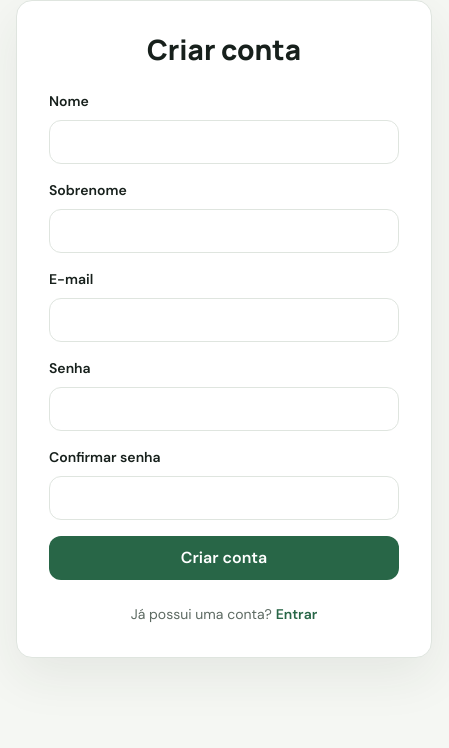
Test: RegisterPage — envio › exibe erro do servidor e permanece na página
The image size is (449, 748).
In the field labelled "Nome": (224, 142) [49,120,399,164], type "John"
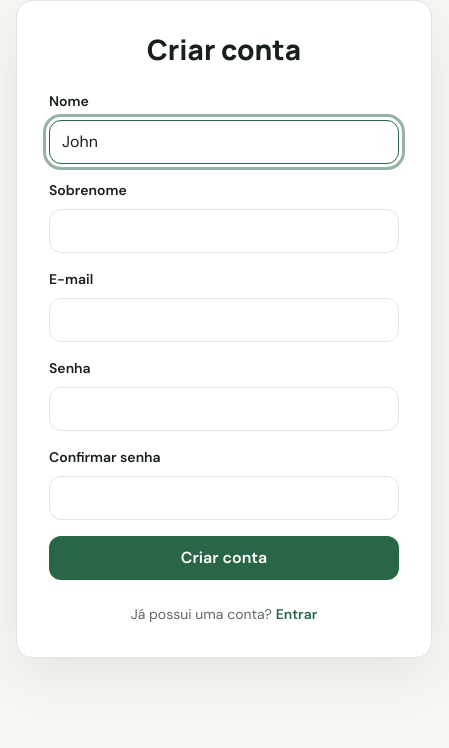
In the field labelled "Sobrenome": (224, 231) [49,209,399,253], type "Doe"
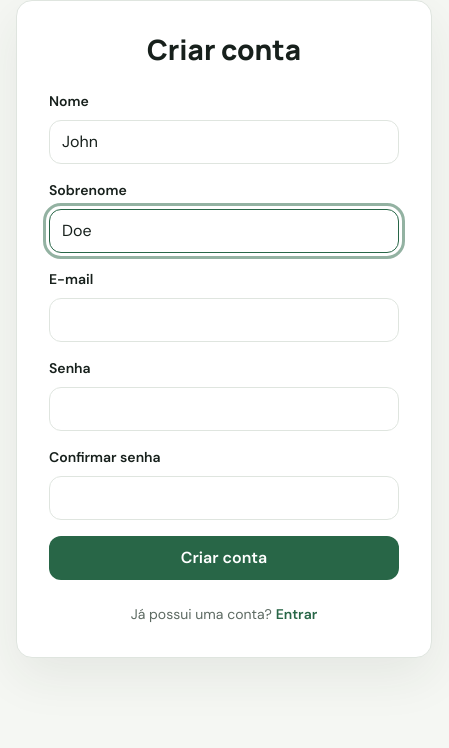
In the field labelled "E-mail": (224, 320) [49,298,399,342], type "john@example.com"
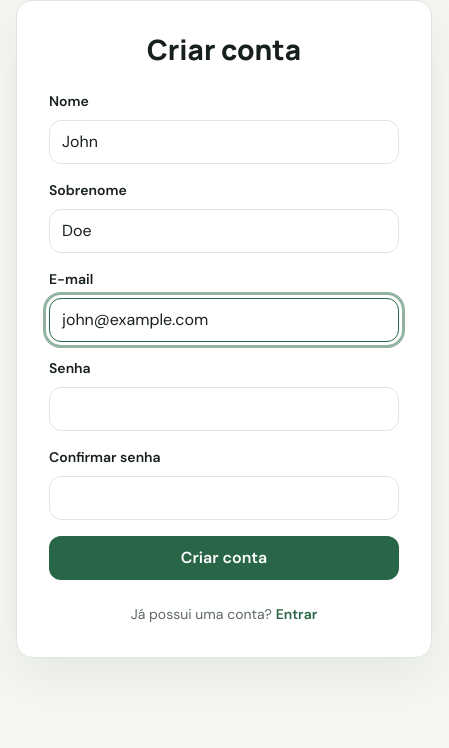
In the password field labelled "Senha": (224, 409) [49,387,399,431], type "12345678"
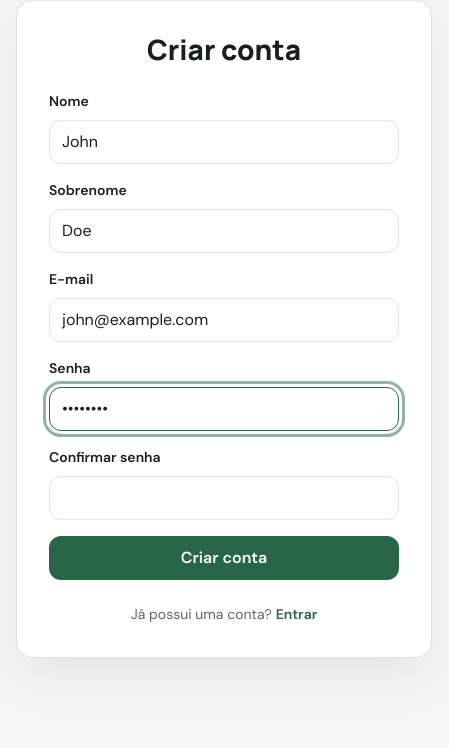
In the password field labelled "Confirmar senha": (224, 498) [49,476,399,520], type "12345678"
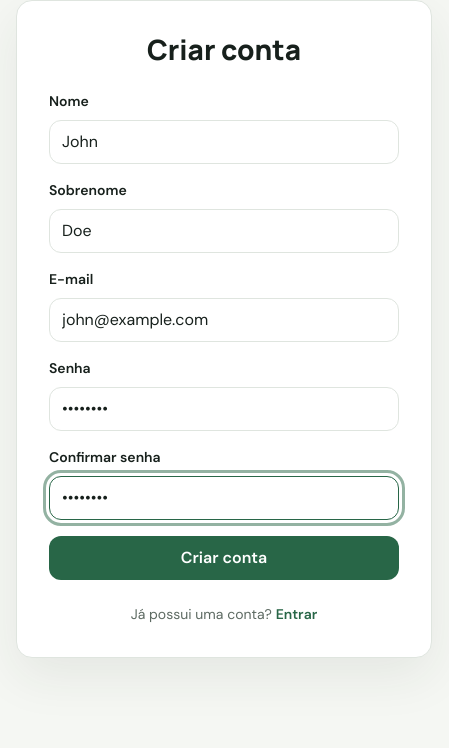
Click the button "Criar conta": (224, 558) [49,536,399,580]
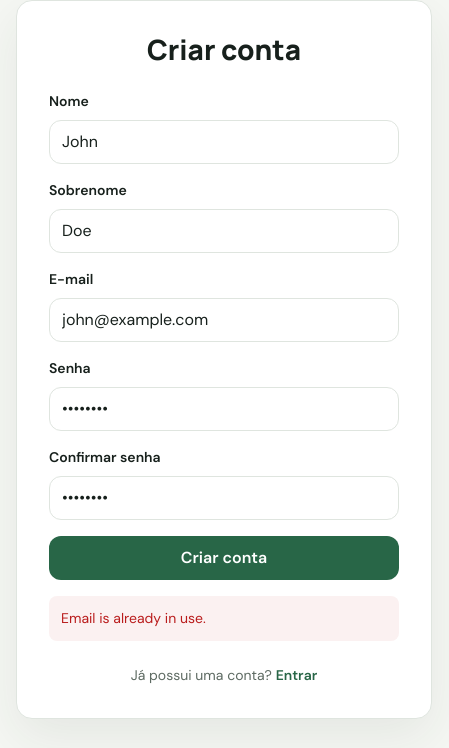
Check: the heading "Criar conta" is shown, box [147,30,301,68]
Check: the text "Email is already in use." is shown, box [49,596,399,641]
